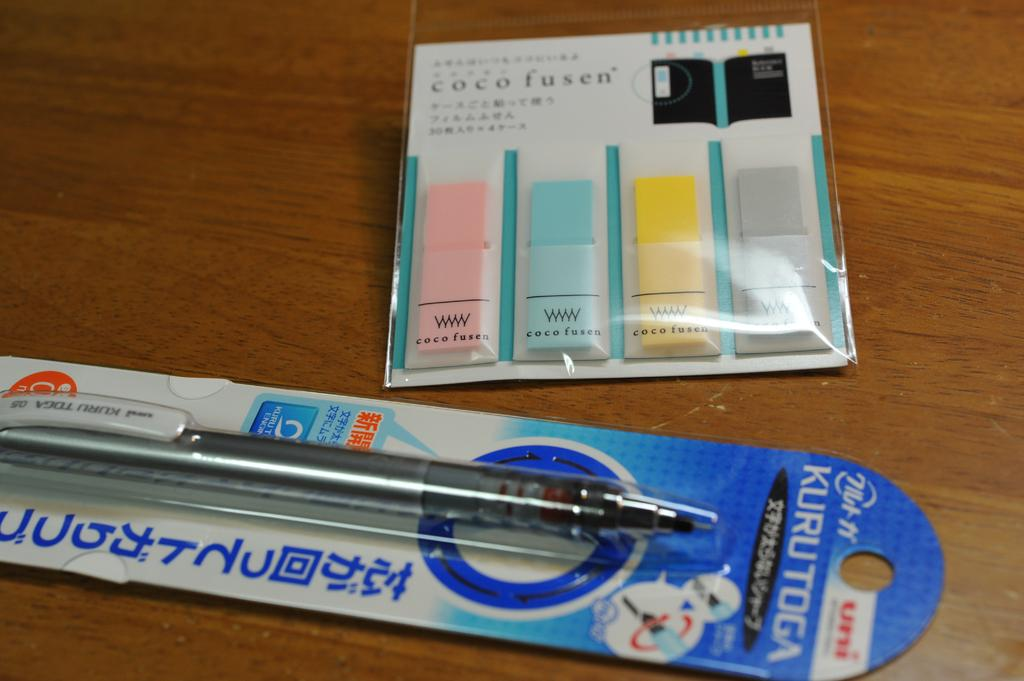pen: (0, 412, 714, 555)
